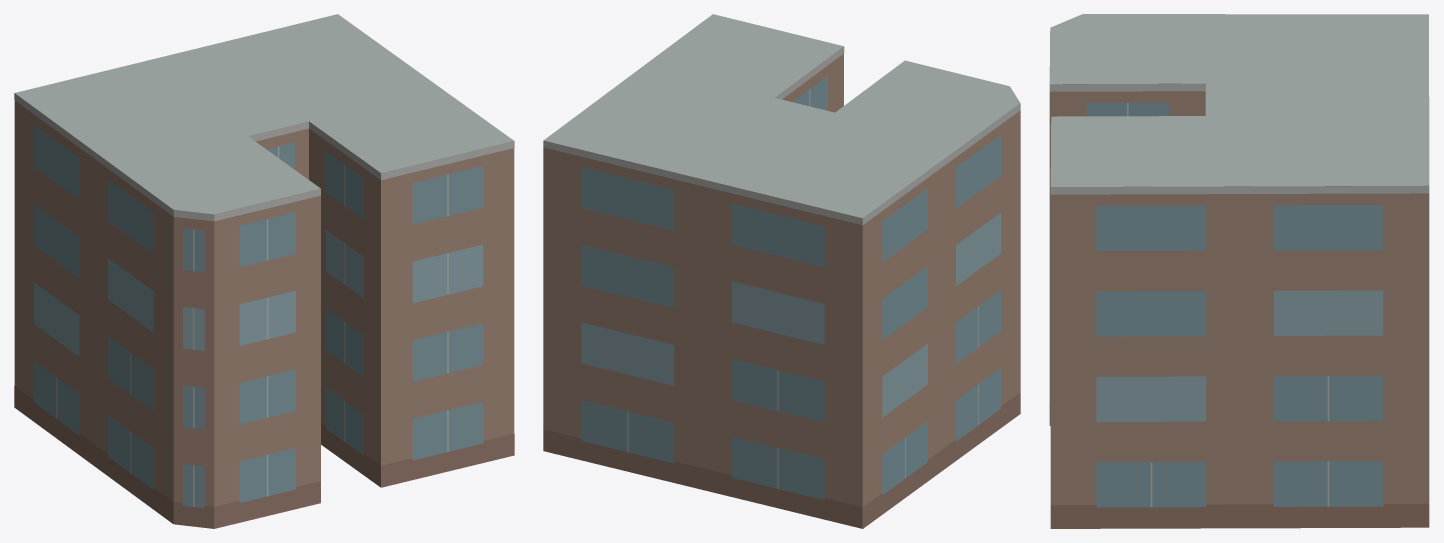
File: survey-upis-32493656.glb
3 renders of one model, left to right at view 1: azimuth 30°, elevation 25°; view 2: azimuth 150°, elevation 25°; view 3: azimuth 270°, elevation 25°, orthographic. The views are drawn at different scales.
Visible parts, largest first — view 1: survey-upis-32493656.tmp; view 2: survey-upis-32493656.tmp; view 3: survey-upis-32493656.tmp.
Boxes of the visible parts, left/top/right/bottom form: survey-upis-32493656.tmp: left=14, top=14, right=514, bottom=528; survey-upis-32493656.tmp: left=543, top=14, right=1020, bottom=528; survey-upis-32493656.tmp: left=1049, top=14, right=1429, bottom=528.
Size of the model in its own units: 11.84 by 10.9 by 10.98.
